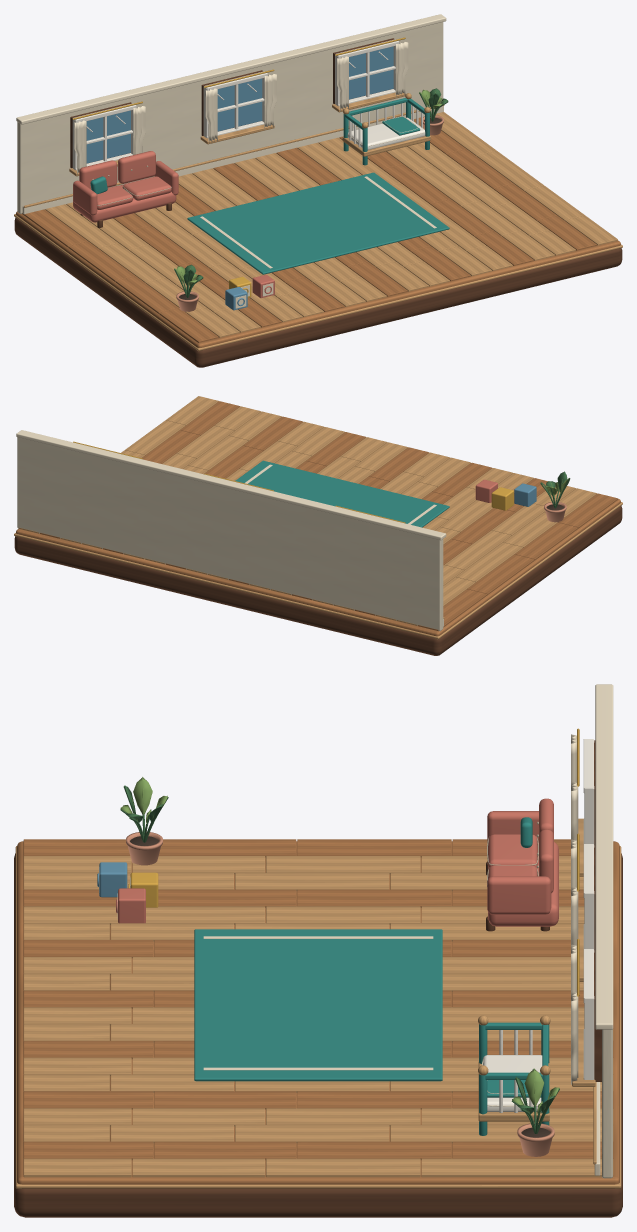
File: home.glb
3 views of the same model, one above another, from view 1: azimuth 30°, elevation 25°; view 2: azimuth 150°, elevation 25°; view 3: azimuth 270°, elevation 25° (orthographic). The views are drawn at different scales.
Visible parts, largest first — view 1: Crafted_wood_light, Crafted_wood, Crafted_plaster, Crafted_teal, Crafted_edge, Crafted_cream, Crafted_coral, Crafted_blue, Crafted_white, Crafted_leaf, Crafted_ceramic, Crafted_brass; view 2: Crafted_plaster, Crafted_wood_light, Crafted_wood, Crafted_edge, Crafted_teal, Crafted_cream, Crafted_blue, Crafted_gold, Crafted_coral, Crafted_leaf; view 3: Crafted_wood_light, Crafted_wood, Crafted_teal, Crafted_edge, Crafted_cream, Crafted_coral, Crafted_white, Crafted_plaster, Crafted_ceramic, Crafted_lightleaf, Crafted_leaf, Crafted_blue (+1 smaller).
Boxes of the visible parts, x1,y1,x2,y2 form: Crafted_wood_light: (14,92,622,351); Crafted_wood: (16,117,620,347); Crafted_plaster: (17,22,443,213); Crafted_teal: (90,98,449,274); Crafted_edge: (14,38,622,367); Crafted_cream: (16,14,446,308); Crafted_coral: (73,151,274,297); Crafted_blue: (86,46,393,310); Crafted_white: (72,39,425,170); Crafted_leaf: (174,88,448,297); Crafted_ceramic: (176,115,443,311); Crafted_brass: (73,37,405,119); Crafted_plaster: (17,437,443,631); Crafted_wood_light: (14,396,622,639); Crafted_wood: (16,401,620,636); Crafted_edge: (14,505,622,655); Crafted_teal: (235,460,449,527); Crafted_cream: (16,430,446,626); Crafted_blue: (514,483,536,506); Crafted_gold: (491,487,513,510); Crafted_coral: (475,479,497,502); Crafted_leaf: (540,471,570,508); Crafted_wood_light: (15,818,621,1188); Crafted_wood: (17,839,619,1184); Crafted_teal: (194,817,549,1135); Crafted_edge: (14,740,622,1217); Crafted_cream: (99,684,613,1175); Crafted_coral: (116,798,558,926); Crafted_white: (483,739,594,1112); Crafted_plaster: (602,1029,612,1178); Crafted_ceramic: (126,832,554,1156); Crafted_lightleaf: (120,777,559,1114); Crafted_leaf: (120,778,559,1133); Crafted_blue: (97,862,127,897).
Size of the model in its own units: 13 by 3.49 by 9.8.
16 materials, 5 textured.
